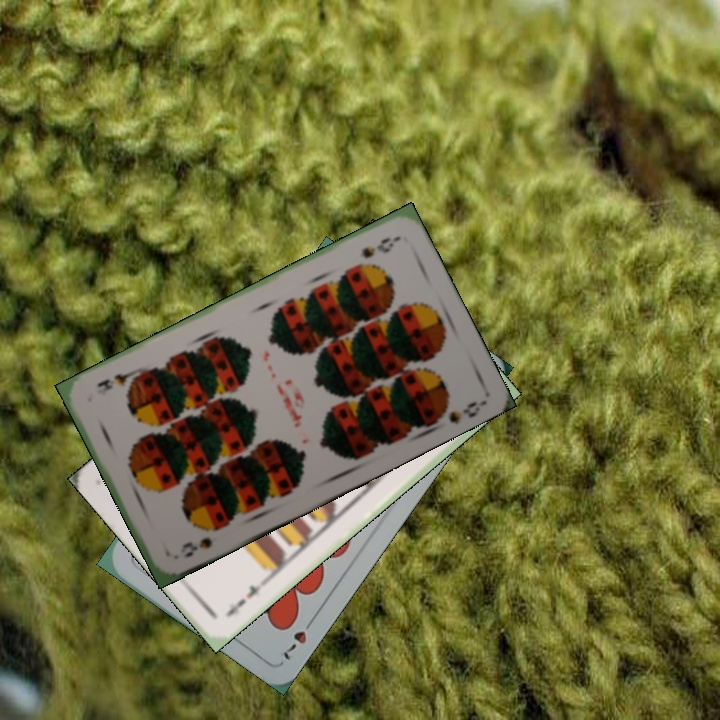E7: (222, 580, 267, 620)
H7: (279, 612, 318, 663)
S9: (176, 521, 223, 561), (357, 233, 401, 261)
